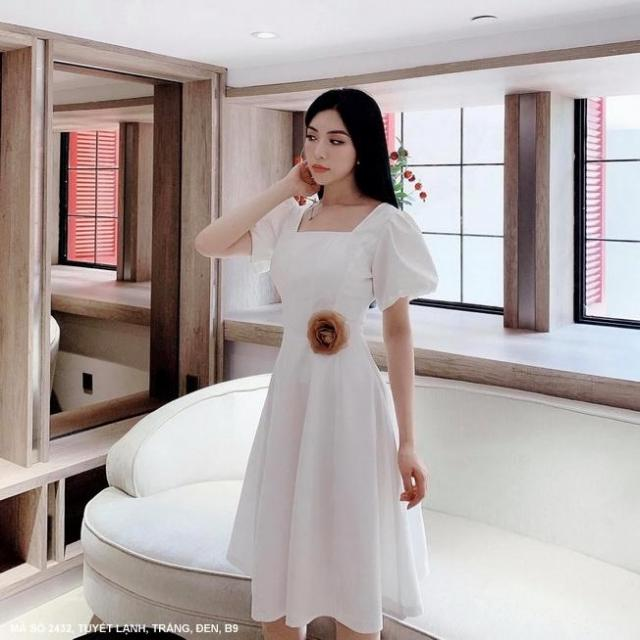clothes: (234, 190, 438, 635)
